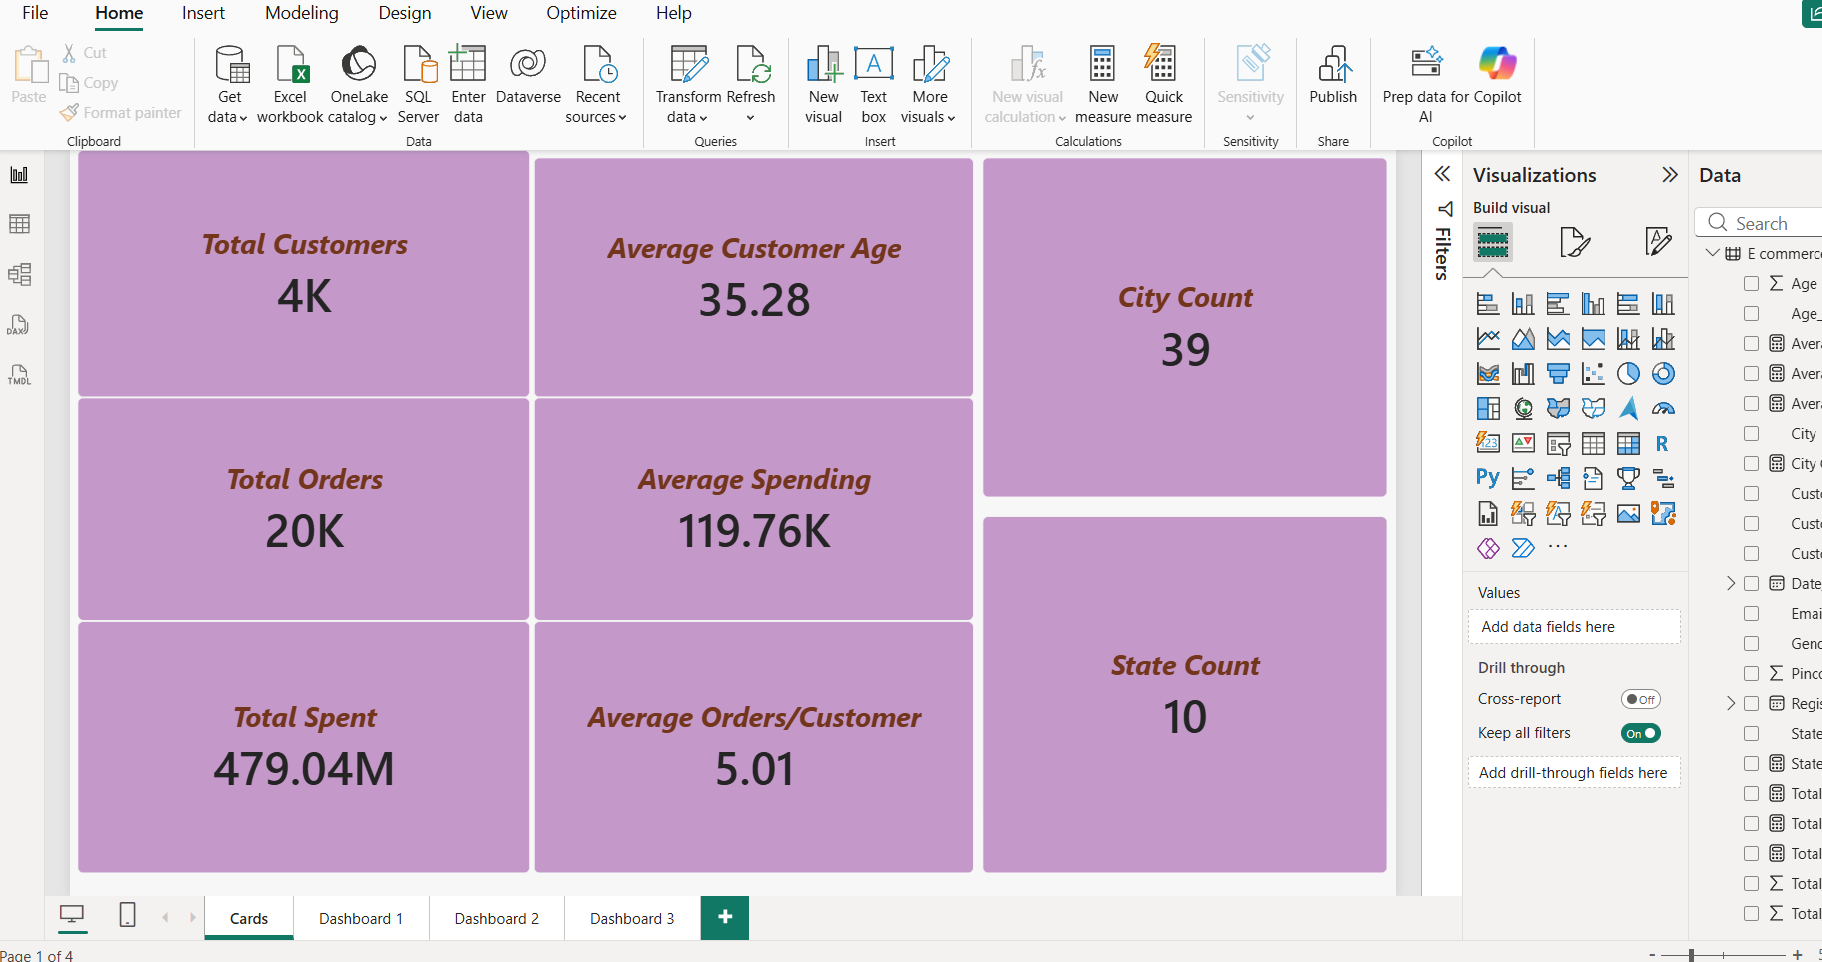

This screenshot's page, from the dashboard's own definition file:
{"tool":"powerbi","page":{"name":"Cards","canvas":[1920,1080],"ordinal":0},"visuals":[{"type":"cardVisual","fields":{"Data":["E commerce Data.Total Customers"]},"box":[10.9,0,655.1,358.3],"z":0},{"type":"cardVisual","fields":{"Data":["E commerce Data.Total Spent"]},"box":[10.9,682.2,655.1,365.6],"z":1000},{"type":"cardVisual","fields":{"Data":["E commerce Data.Total Orders"]},"box":[10.9,358.3,655.1,323.9],"z":2000},{"type":"cardVisual","fields":{"Data":["E commerce Data.Average Spending"]},"box":[671.4,358.3,637,323.9],"z":3000},{"type":"cardVisual","fields":{"Data":["E commerce Data.Average Customer Age"]},"box":[671.4,10.9,637,347.5],"z":4000},{"type":"cardVisual","fields":{"Data":["E commerce Data.City count"]},"box":[1321.1,10.9,586.3,492.2],"z":5000},{"type":"cardVisual","fields":{"Data":["E commerce Data.Average Orders per Customer"]},"box":[671.4,682.2,637,365.6],"z":6000},{"type":"cardVisual","fields":{"Data":["E commerce Data.State Count"]},"box":[1321.1,530.2,586.3,517.6],"z":6001}]}

Visuals, with their boxes on the page's 1920x1080 design canvas (x1, y1, x2, y2). These are canvas units, not pixel positions in the 1822x962 screenshot, which may show the page scaled, cropped or inside an application window:
cardVisual - E commerce Data.Total Customers: {"left": 11, "top": 0, "right": 666, "bottom": 358}
cardVisual - E commerce Data.Total Spent: {"left": 11, "top": 682, "right": 666, "bottom": 1048}
cardVisual - E commerce Data.Total Orders: {"left": 11, "top": 358, "right": 666, "bottom": 682}
cardVisual - E commerce Data.Average Spending: {"left": 671, "top": 358, "right": 1308, "bottom": 682}
cardVisual - E commerce Data.Average Customer Age: {"left": 671, "top": 11, "right": 1308, "bottom": 358}
cardVisual - E commerce Data.City count: {"left": 1321, "top": 11, "right": 1907, "bottom": 503}
cardVisual - E commerce Data.Average Orders per Customer: {"left": 671, "top": 682, "right": 1308, "bottom": 1048}
cardVisual - E commerce Data.State Count: {"left": 1321, "top": 530, "right": 1907, "bottom": 1048}
